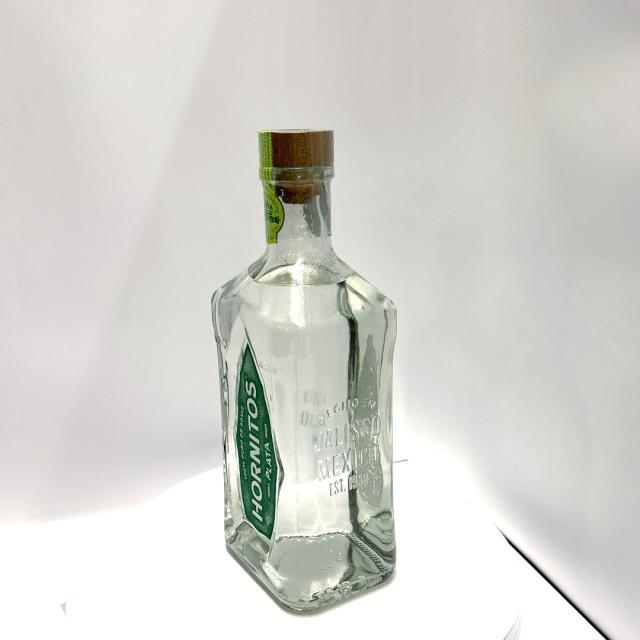HORNITOS-PLATA-TEQUILA-750ML: (210, 126, 400, 618)
